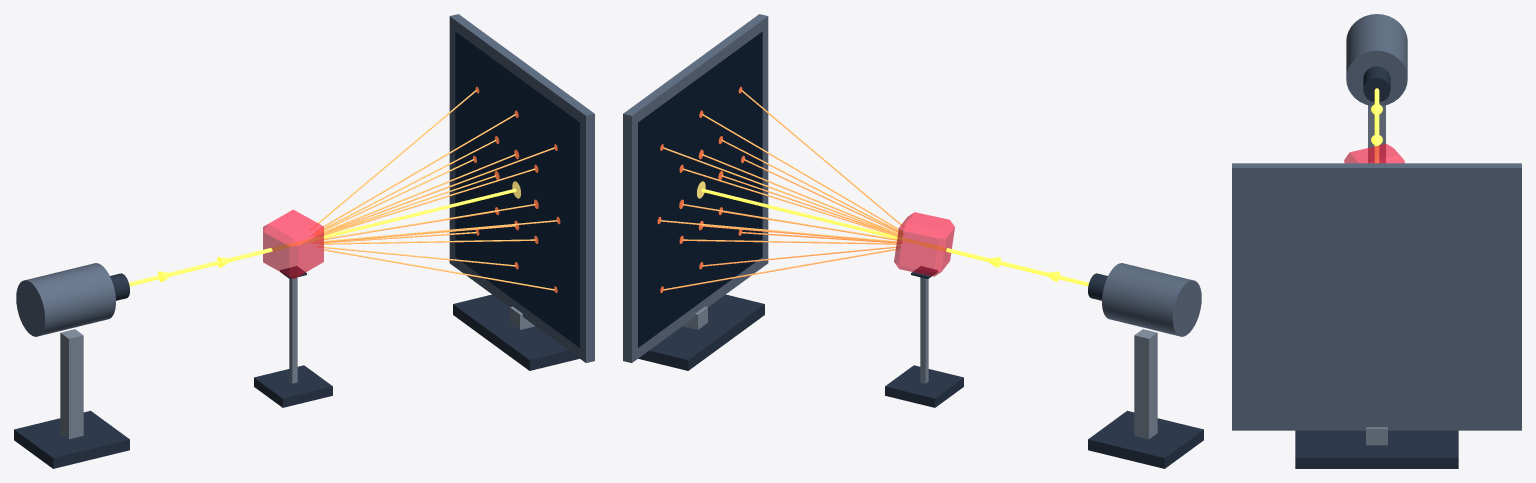
The model's file is Roentgenbeugung_neu.glb.
3 views of the same model, side by side, from view 1: azimuth 30°, elevation 25°; view 2: azimuth 150°, elevation 25°; view 3: azimuth 270°, elevation 25° (orthographic). The views are drawn at different scales.
Visible parts, largest first — view 1: Detektor_aktive_Flaeche, Detektorgehaeuse, Quellengehaeuse, Detektorfuss, Quellenfuss, Transparenter_roter_Einkristall, Quellenstaender, Kristallfuss, Kristallhalter, Primaerstrahl_hinter_Kristall, Einfallender_Roentgenstrahl; view 2: Detektor_aktive_Flaeche, Detektorgehaeuse, Quellengehaeuse, Detektorfuss, Quellenfuss, Transparenter_roter_Einkristall, Quellenstaender, Kristallfuss, Kristallhalter, Primaerstrahl_hinter_Kristall, Einfallender_Roentgenstrahl; view 3: Detektorgehaeuse, Detektorfuss, Quellengehaeuse, Transparenter_roter_Einkristall, Kollimator, Quellenstaender, Detektorstaender, Einfallender_Roentgenstrahl.
Part boxes in pixels (<box>): Detektor_aktive_Flaeche: <box>455,31,579,347</box>; Detektorgehaeuse: <box>449,14,594,362</box>; Quellengehaeuse: <box>16,263,115,336</box>; Detektorfuss: <box>453,294,579,370</box>; Quellenfuss: <box>14,410,129,468</box>; Transparenter_roter_Einkristall: <box>263,209,323,278</box>; Quellenstaender: <box>60,329,83,439</box>; Kristallfuss: <box>254,365,332,407</box>; Kristallhalter: <box>289,277,297,383</box>; Primaerstrahl_hinter_Kristall: <box>294,188,516,245</box>; Einfallender_Roentgenstrahl: <box>129,243,294,286</box>; Detektor_aktive_Flaeche: <box>638,31,762,347</box>; Detektorgehaeuse: <box>623,14,768,362</box>; Quellengehaeuse: <box>1102,263,1201,336</box>; Detektorfuss: <box>638,294,764,370</box>; Quellenfuss: <box>1088,410,1203,468</box>; Transparenter_roter_Einkristall: <box>894,212,954,276</box>; Quellenstaender: <box>1134,329,1157,439</box>; Kristallfuss: <box>885,365,963,407</box>; Kristallhalter: <box>920,277,928,383</box>; Primaerstrahl_hinter_Kristall: <box>701,188,923,245</box>; Einfallender_Roentgenstrahl: <box>923,243,1088,286</box>; Detektorgehaeuse: <box>1232,163,1521,430</box>; Detektorfuss: <box>1295,430,1458,468</box>; Quellengehaeuse: <box>1346,14,1407,105</box>; Transparenter_roter_Einkristall: <box>1344,143,1404,163</box>; Kollimator: <box>1363,66,1390,101</box>; Quellenstaender: <box>1368,105,1385,162</box>; Detektorstaender: <box>1366,427,1387,445</box>; Einfallender_Roentgenstrahl: <box>1374,88,1379,162</box>.
Size of the model in its own units: 3.54 by 1.75 by 1.6.
